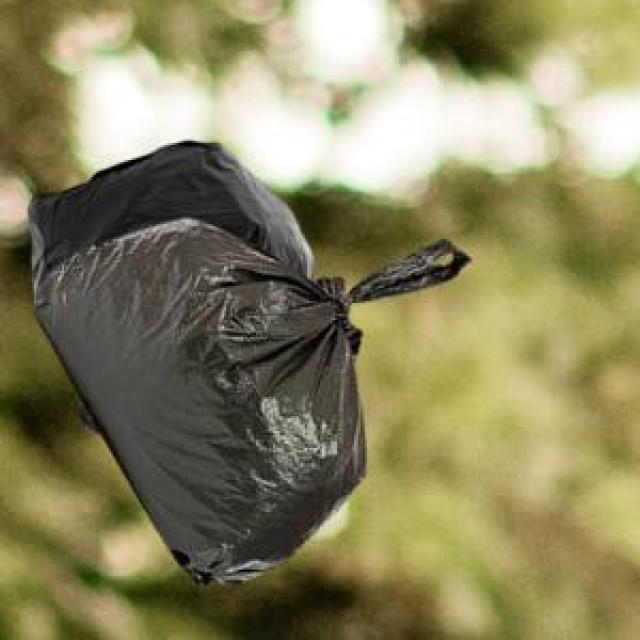Trashbag: (30, 214, 478, 593)
